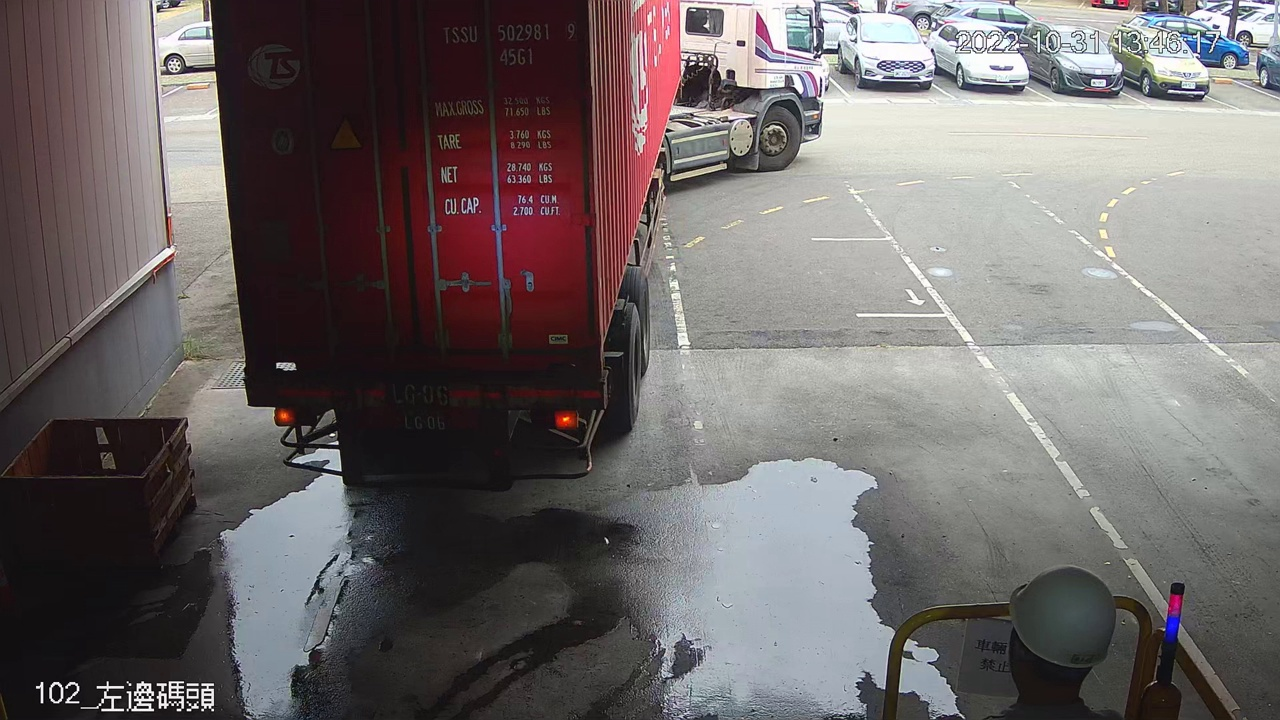container: (435, 15, 581, 71)
